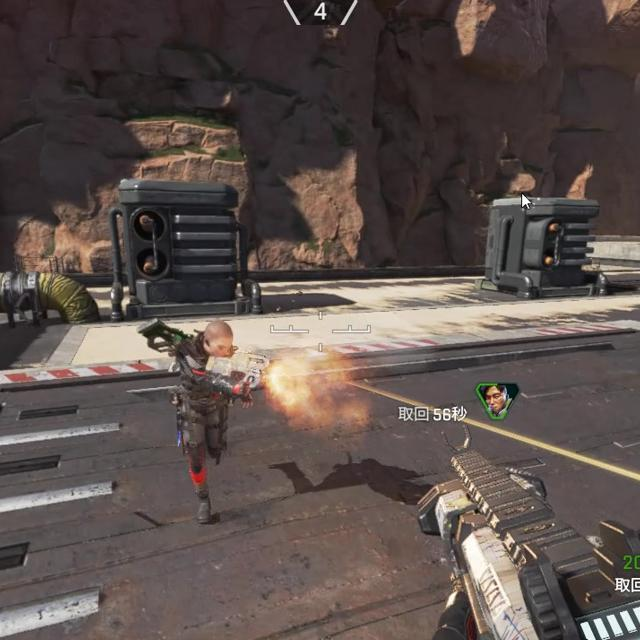avatar: (166, 317, 250, 526)
